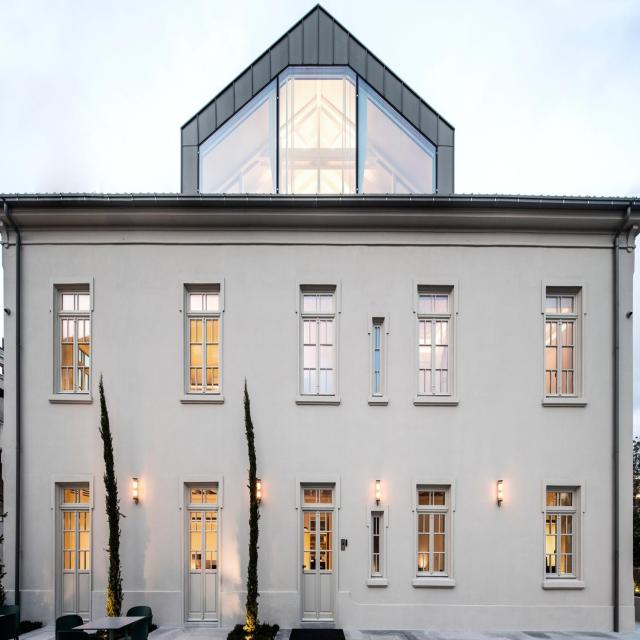door: (299, 484, 336, 630), (184, 481, 220, 628), (61, 484, 88, 619)
wall: (0, 2, 640, 634)
windows: (200, 62, 438, 198), (302, 288, 335, 397), (545, 289, 578, 398), (419, 286, 452, 394), (59, 286, 91, 395), (188, 288, 220, 397), (420, 491, 450, 576), (546, 490, 576, 574), (372, 509, 386, 582), (375, 321, 385, 396)
